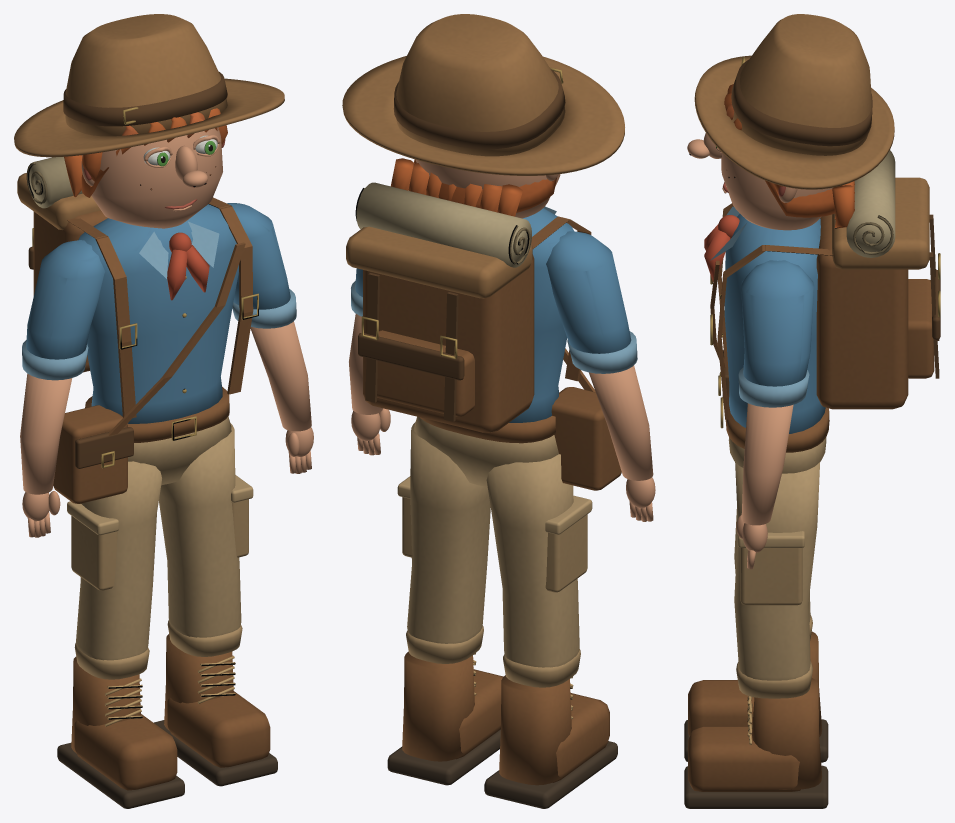
File: character-master.glb
3 views of the same model, side by side, from view 1: azimuth 30°, elevation 25°; view 2: azimuth 150°, elevation 25°; view 3: azimuth 270°, elevation 25° (orthographic). The views are drawn at different scales.
Parts seen in each view (by area): view 1: CHR-BOY-01.001; view 2: CHR-BOY-01.001; view 3: CHR-BOY-01.001.
Part boxes in pixels (left/top/right/bottom): CHR-BOY-01.001: left=14, top=14, right=313, bottom=808; CHR-BOY-01.001: left=342, top=14, right=655, bottom=808; CHR-BOY-01.001: left=684, top=14, right=940, bottom=808.
Size of the model in its own units: 0.56 by 1.34 by 0.4202.
22 materials, 22 textured.
